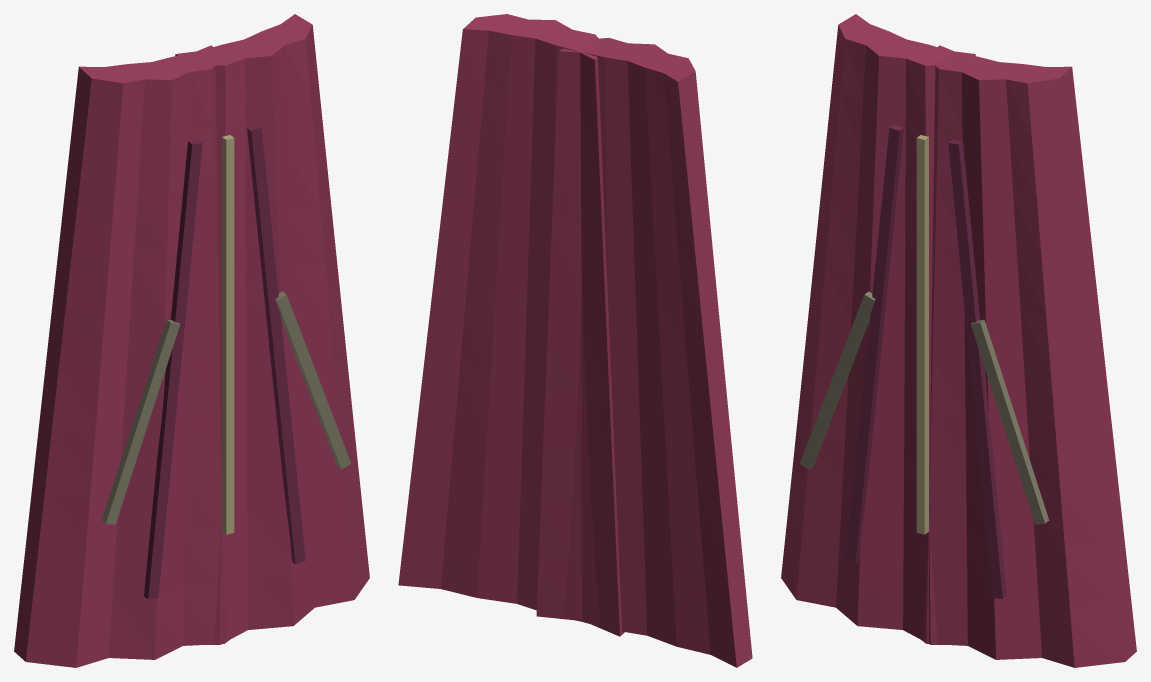
The model's file is crane_split.obj.
3 renders of one model, left to right at view 1: azimuth 30°, elevation 25°; view 2: azimuth 150°, elevation 25°; view 3: azimuth 330°, elevation 25°, orthographic.
Visible parts, largest first — view 1: crane_-1_crane_panel, crane_1_crane_panel, crane_-1_crane_panel_edge, crane_fold_1, crane_fold_-1, crane_split_line, crane_1_crane_panel_edge, crane_fold_-1_edge, crane_feather_-1, crane_feather_1, crane_split_line_edge, crane_fold_1_edge (+2 smaller); view 2: crane_1_crane_panel_back, crane_-1_crane_panel_back, crane_-1_crane_panel_edge, crane_1_crane_panel_edge; view 3: crane_1_crane_panel, crane_-1_crane_panel, crane_1_crane_panel_edge, crane_fold_-1, crane_fold_1, crane_split_line, crane_-1_crane_panel_edge, crane_fold_1_edge, crane_feather_1, crane_feather_-1, crane_split_line_edge, crane_fold_-1_edge (+2 smaller).
Boxes of the visible parts, box(x1,y1,x2,y2) form: crane_-1_crane_panel: box(25, 65, 228, 667); crane_1_crane_panel: box(206, 25, 369, 644); crane_-1_crane_panel_edge: box(14, 45, 215, 661); crane_fold_1: box(251, 127, 305, 564); crane_fold_-1: box(148, 143, 202, 599); crane_split_line: box(226, 138, 234, 534); crane_1_crane_panel_edge: box(175, 14, 312, 65); crane_fold_-1_edge: box(144, 140, 201, 598); crane_feather_-1: box(106, 322, 180, 524); crane_feather_1: box(277, 294, 350, 469); crane_split_line_edge: box(222, 135, 233, 534); crane_fold_1_edge: box(247, 124, 295, 563); crane_1_crane_panel_back: box(398, 29, 619, 636); crane_-1_crane_panel_back: box(536, 51, 736, 667); crane_-1_crane_panel_edge: box(559, 38, 752, 667); crane_1_crane_panel_edge: box(463, 14, 624, 636); crane_1_crane_panel: box(922, 65, 1125, 667); crane_-1_crane_panel: box(781, 25, 944, 644); crane_1_crane_panel_edge: box(935, 45, 1136, 661); crane_fold_-1: box(845, 127, 899, 564); crane_fold_1: box(948, 143, 1002, 599); crane_split_line: box(916, 138, 924, 534); crane_-1_crane_panel_edge: box(838, 14, 975, 65); crane_fold_1_edge: box(949, 140, 1006, 598); crane_feather_1: box(970, 322, 1044, 524); crane_feather_-1: box(800, 294, 873, 469); crane_split_line_edge: box(917, 135, 928, 534); crane_fold_-1_edge: box(855, 124, 903, 563).
Bounding box in the file's own units: 1.17 × 1.88 × 0.2719.
